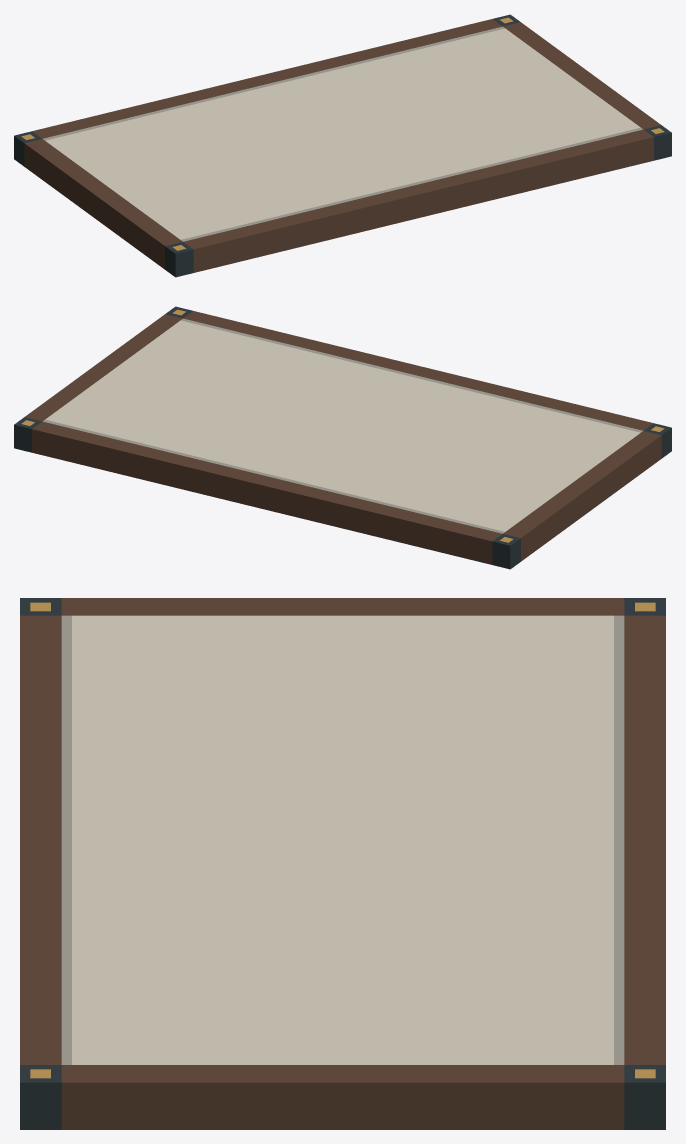
3 renders of one model, top to bottom at view 1: azimuth 30°, elevation 25°; view 2: azimuth 150°, elevation 25°; view 3: azimuth 270°, elevation 25°, orthographic. The views are drawn at different scales.
Parts seen in each view (by area): view 1: 茶几台面; view 2: 茶几台面; view 3: 茶几台面.
Part boxes in pixels (left/top/right/bottom): 茶几台面: left=14, top=14, right=671, bottom=277; 茶几台面: left=14, top=306, right=671, bottom=569; 茶几台面: left=20, top=598, right=665, bottom=1129.
Size of the model in its own units: 1.1 by 0.05 by 0.62.
5 materials, 5 textured.
